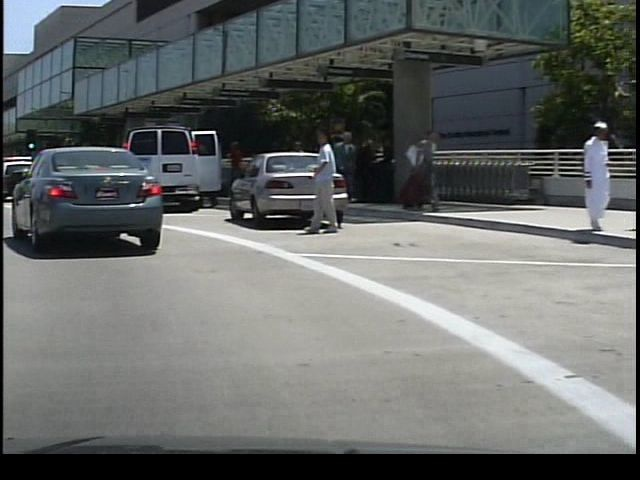person: (568, 121, 607, 235), (300, 125, 338, 237), (401, 124, 436, 215), (616, 126, 640, 232), (333, 127, 361, 210), (220, 137, 243, 203)
